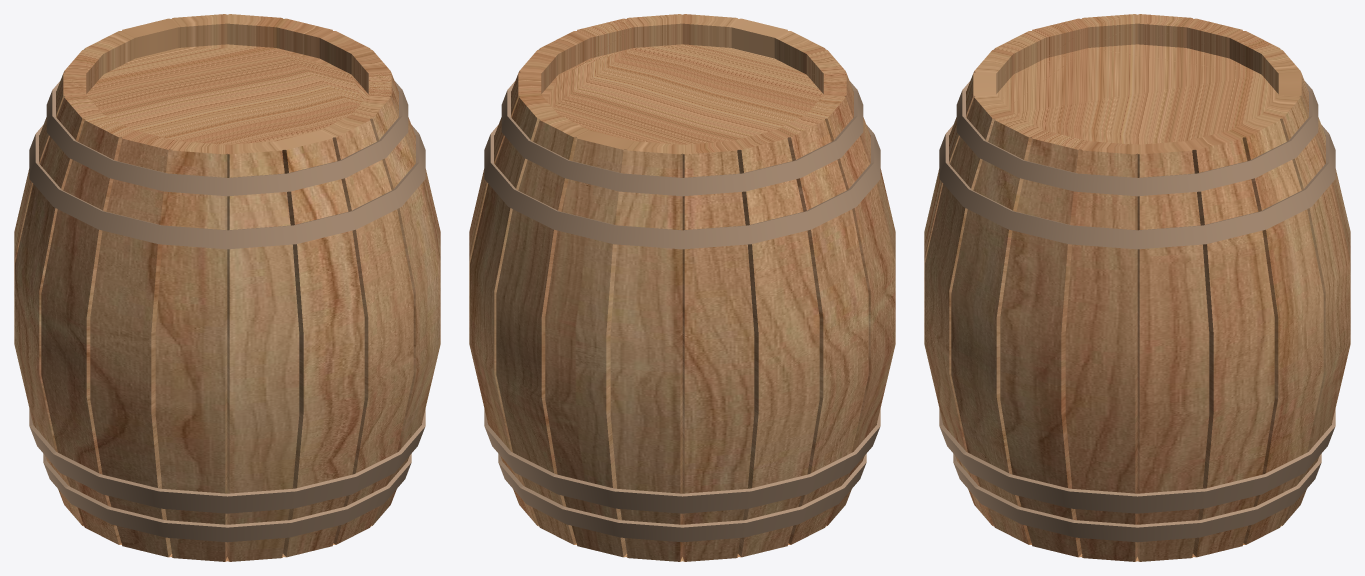
3 views of the same model, side by side, from view 1: azimuth 30°, elevation 25°; view 2: azimuth 150°, elevation 25°; view 3: azimuth 270°, elevation 25° (orthographic).
Parts seen in each view (by area): view 1: Cylinder001, 对象001; view 2: Cylinder001, 对象001; view 3: Cylinder001, 对象001.
Part boxes in pixels (x1,y1,x2,y2): Cylinder001: (14,14,440,561); 对象001: (29,81,425,542); Cylinder001: (469,14,895,561); 对象001: (484,81,880,542); Cylinder001: (924,14,1350,561); 对象001: (939,81,1335,542).
Bounding box in the file's own units: 5672 × 5899 × 5596.
2 materials, 1 textured.
